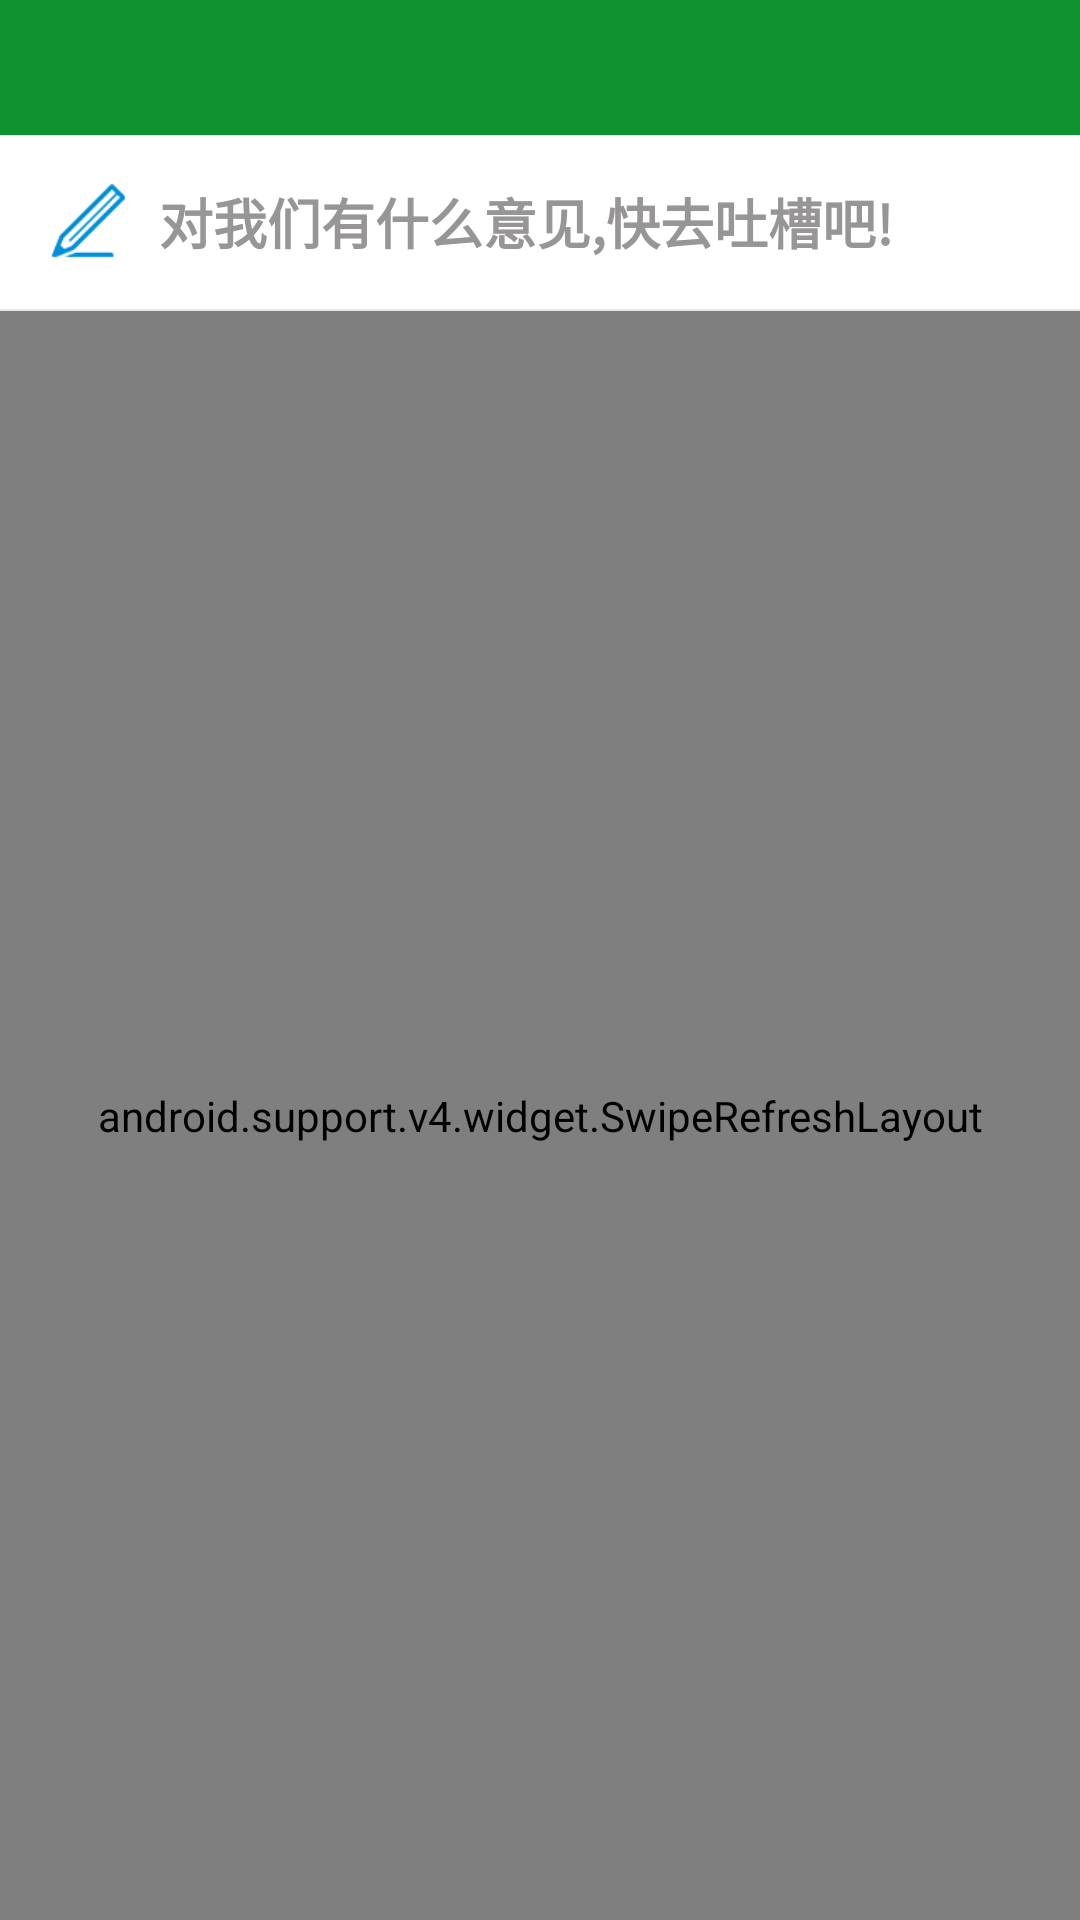

Icons on this 1080 × 1920 Android screen, each with the point to tap as (x,y):
freeback edit: (88,221)
